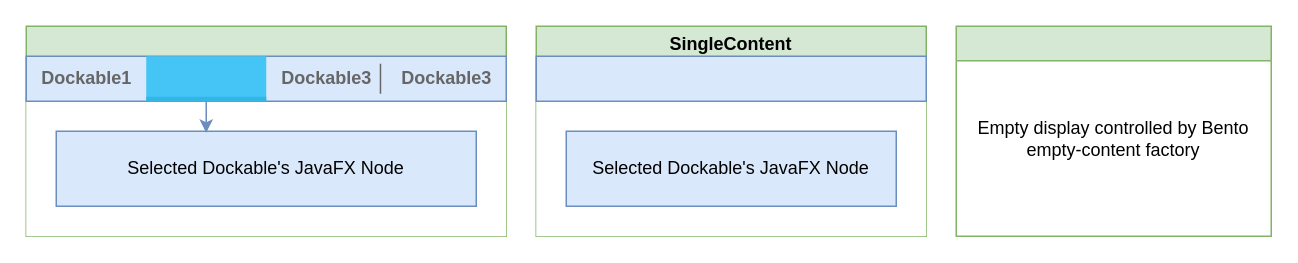
Some shapes in this 1298 by 263 pixel diagram are drawn without their labels. The box of each missing label's shape, as (x1, y1, x2, y2) in pixels:
Dockable: (535, 55, 926, 101)
Dockable2: (146, 56, 266, 100)
EmptyContent: (955, 25, 1271, 236)
TabbedContent: (25, 25, 506, 236)
